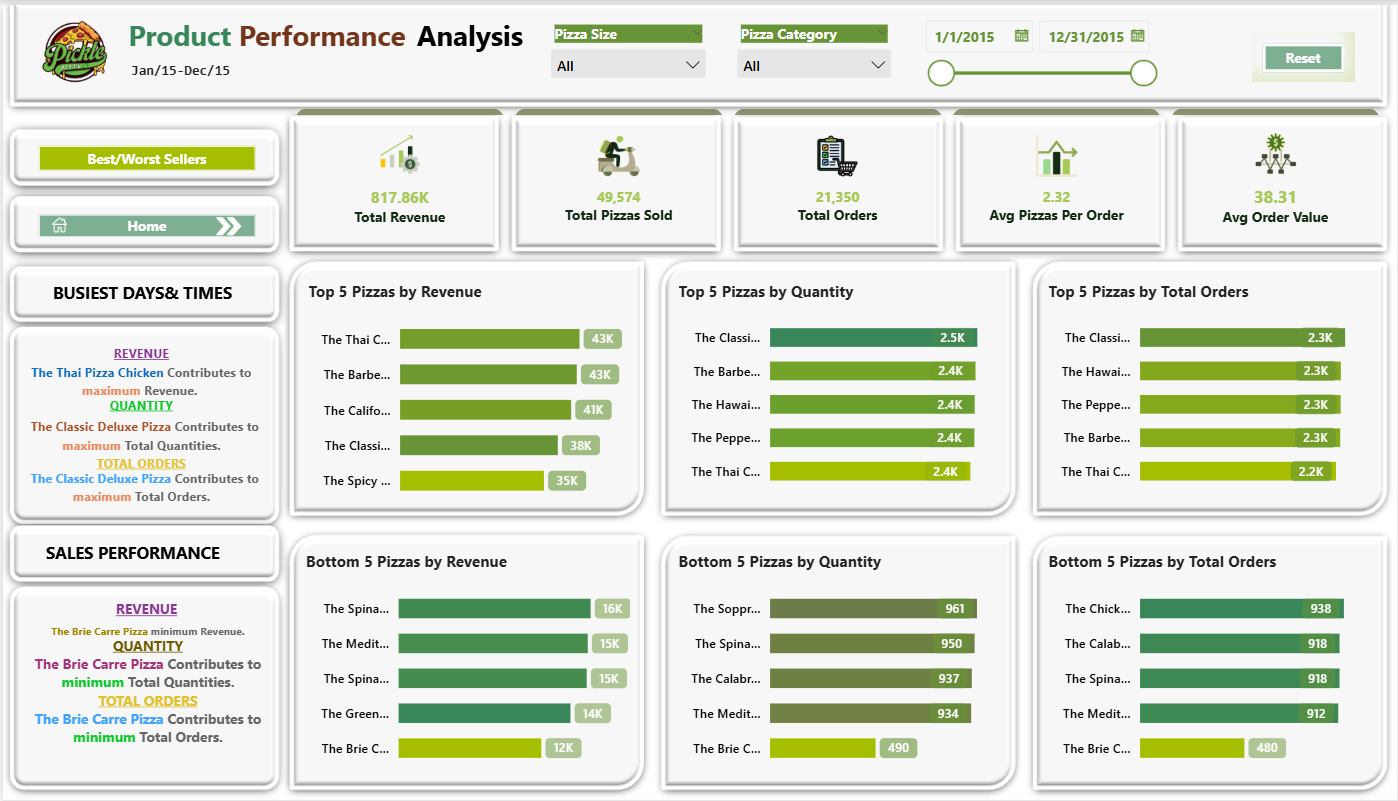

What the dashboard file says about the page in this screenshot:
{"tool":"powerbi","page":{"name":"Best/Worst Sellers","canvas":[1344,768],"ordinal":1},"visuals":[{"type":"textbox","box":[15.4,255.8,237.5,43.3],"z":0},{"type":"textbox","box":[13.5,318.3,240.4,185.6],"z":1000},{"type":"textbox","box":[4.8,505.8,240.4,44.2],"z":2000},{"type":"textbox","box":[25,550,228.8,190.4],"z":3000},{"type":"clusteredBarChart","title":"Top 5 Pizzas by Revenue","fields":{"Category":["pizza_sales.pizza_name"],"Y":["DAX Measuers.Total Revenue"]},"box":[284.6,255.8,329.8,237.5],"z":4000},{"type":"barChart","title":"Bottom 5 Pizzas by Revenue","fields":{"Category":["pizza_sales.pizza_name"],"Y":["DAX Measuers.Total Revenue"]},"box":[281.7,515.4,332.7,234.6],"z":5000},{"type":"barChart","title":"Top 5 Pizzas by Quantity","fields":{"Category":["pizza_sales.pizza_name"],"Y":["DAX Measuers.Total Pizzas Sold"]},"box":[640.4,255.8,331.7,226.9],"z":6000},{"type":"clusteredBarChart","title":"Bottom 5 Pizzas by Quantity","fields":{"Category":["pizza_sales.pizza_name"],"Y":["DAX Measuers.Total Pizzas Sold"]},"box":[640.4,515.4,331.7,234.6],"z":7000},{"type":"barChart","title":"Top 5 Pizzas by Total Orders","fields":{"Category":["pizza_sales.pizza_name"],"Y":["DAX Measuers.Total Orders"]},"box":[998.1,255.8,330.8,226.9],"z":8000},{"type":"barChart","title":"Bottom 5 Pizzas by Total Orders","fields":{"Category":["pizza_sales.pizza_name"],"Y":["DAX Measuers.Total Orders"]},"box":[998.1,515.4,330.8,234.6],"z":9000},{"type":"textbox","box":[110.8,0,402.4,90.4],"z":10000},{"type":"textbox","box":[110.8,48.2,120.5,27.7],"z":11000},{"type":"image","box":[5.1,0,128.6,90.8],"z":12000},{"type":"pageNavigator","box":[24,191.3,229.8,42.3],"z":13000},{"type":"pageNavigator","box":[24,125,229.8,44.2],"z":14000},{"type":"image","box":[34.6,200,39.4,24],"z":15000},{"type":"image","box":[198.1,196.2,40.4,33.7],"z":16000},{"type":"slicer","fields":{"Values":["pizza_sales.pizza_size"]},"box":[513,8,179,74],"z":17000},{"type":"slicer","fields":{"Values":["pizza_sales.pizza_category"]},"box":[692.8,8.4,178.3,73.5],"z":18000},{"type":"slicer","fields":{"Values":["pizza_sales.order_date"]},"box":[871.1,0,244.6,81.9],"z":19000},{"type":"actionButton","box":[1204,26,99,48],"z":20000},{"type":"cardVisual","fields":{"Data":["DAX Measuers.Total Revenue","DAX Measuers.Total Pizzas Sold","DAX Measuers.Total Orders","DAX Measuers.Avg Pizzas Per Order","DAX Measuers.Avg Order Value"]},"box":[282,100,1047,136],"z":21000}]}

Visuals, with their boxes in screenshot pixels (x1, y1, x2, y2), scaled from the page's 1344x768 canvas onto the 1398x801 screenshot:
textbox: select_region(16, 267, 263, 312)
textbox: select_region(14, 332, 264, 526)
textbox: select_region(5, 528, 255, 574)
textbox: select_region(26, 574, 264, 772)
"Top 5 Pizzas by Revenue" clusteredBarChart: select_region(296, 267, 639, 514)
"Bottom 5 Pizzas by Revenue" barChart: select_region(293, 538, 639, 782)
"Top 5 Pizzas by Quantity" barChart: select_region(666, 267, 1011, 503)
"Bottom 5 Pizzas by Quantity" clusteredBarChart: select_region(666, 538, 1011, 782)
"Top 5 Pizzas by Total Orders" barChart: select_region(1038, 267, 1382, 503)
"Bottom 5 Pizzas by Total Orders" barChart: select_region(1038, 538, 1382, 782)
textbox: select_region(115, 0, 534, 94)
textbox: select_region(115, 50, 241, 79)
image: select_region(5, 0, 139, 95)
pageNavigator: select_region(25, 200, 264, 244)
pageNavigator: select_region(25, 130, 264, 176)
image: select_region(36, 209, 77, 234)
image: select_region(206, 205, 248, 240)
slicer - pizza_sales.pizza_size: select_region(534, 8, 720, 86)
slicer - pizza_sales.pizza_category: select_region(721, 9, 906, 85)
slicer - pizza_sales.order_date: select_region(906, 0, 1161, 85)
actionButton: select_region(1252, 27, 1355, 77)
cardVisual - DAX Measuers.Total Revenue x DAX Measuers.Total Pizzas Sold: select_region(293, 104, 1382, 246)
